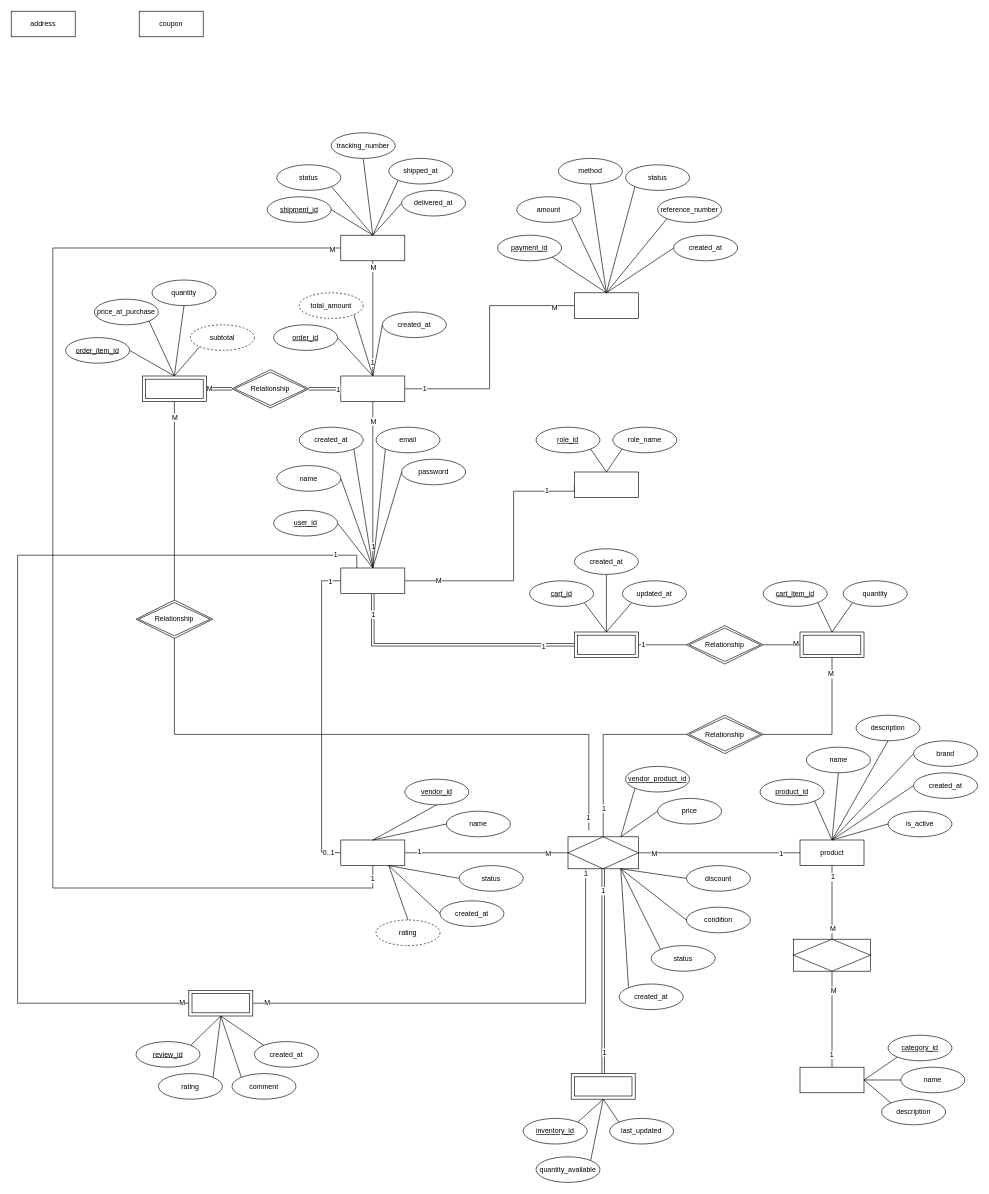
Some shapes in this 989 by 1194 pixel diagram are drawn without their labels. The box of each missing label's shape, as (x1, y1, x2, y2) in pixels:
cart: (574, 631, 638, 658)
cart_item: (799, 631, 864, 658)
category: (799, 1067, 864, 1093)
inventory: (571, 1073, 635, 1099)
order: (340, 375, 405, 402)
order_item: (142, 375, 206, 402)
payment: (574, 292, 638, 318)
product_category: (793, 939, 870, 971)
review: (188, 990, 253, 1016)
role: (574, 471, 638, 498)
shipment: (340, 235, 405, 261)
user: (340, 567, 405, 594)
vendor: (340, 839, 405, 866)
vendor_product: (567, 836, 638, 869)
